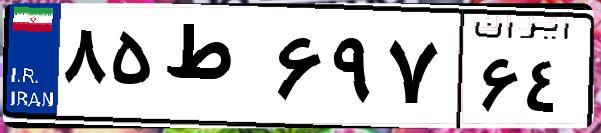4: (525, 38, 570, 115)
5: (110, 28, 158, 98)
6: (270, 28, 330, 110), (475, 38, 525, 113)
7: (385, 28, 445, 110)
8: (57, 26, 110, 100)
9: (330, 28, 385, 110)
ط: (158, 20, 270, 120)
